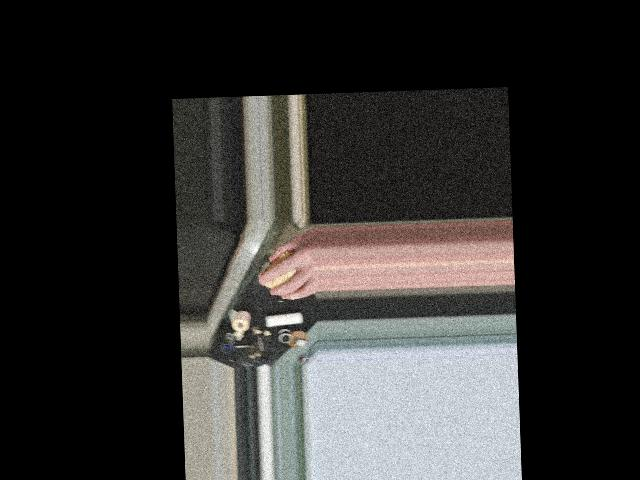onion: (259, 248, 304, 292)
